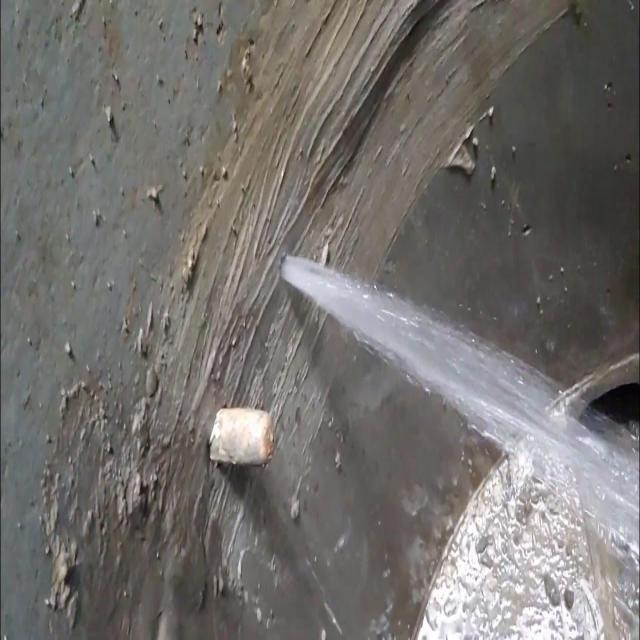leak: (278, 251, 640, 576)
